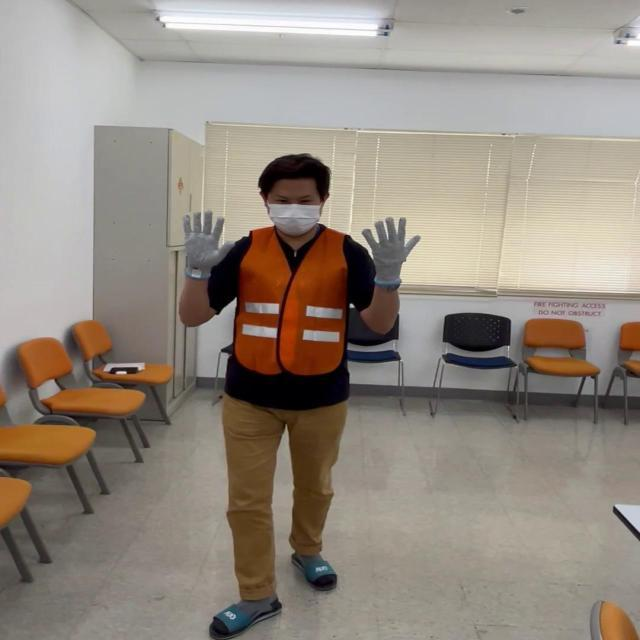gloved_hand: (361, 216, 421, 286), (180, 211, 242, 277)
